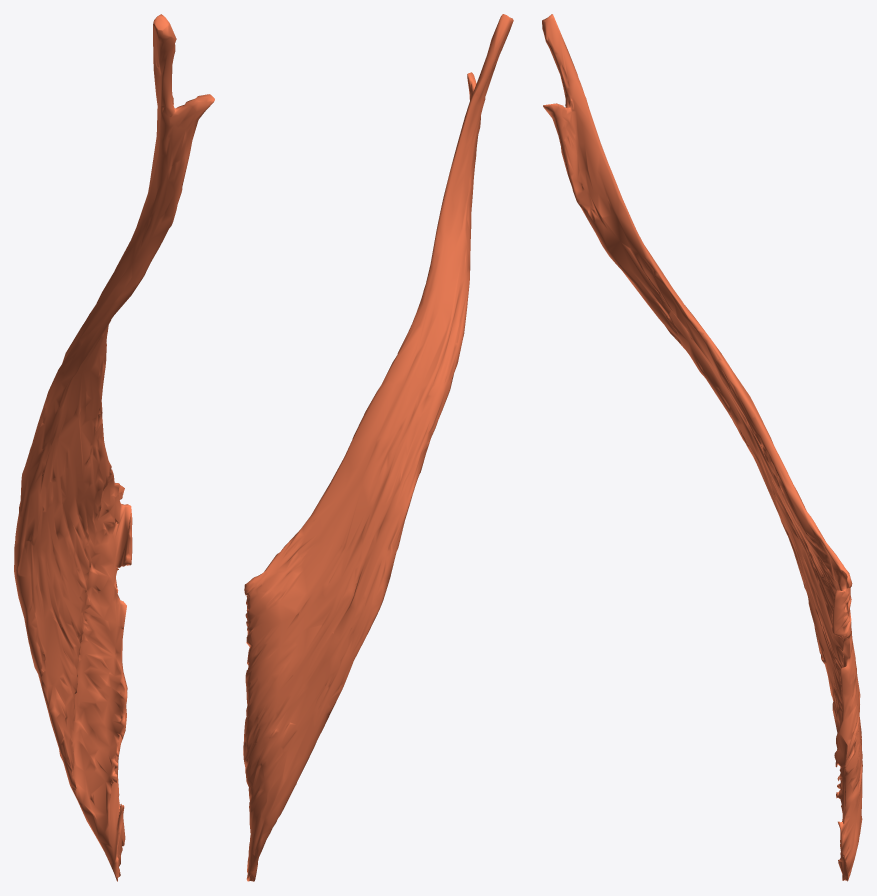
The model's file is Splenius_colli_muscle.r_Generated_Mesh_From_X3D.202.glb.
3 renders of one model, left to right at view 1: azimuth 30°, elevation 25°; view 2: azimuth 150°, elevation 25°; view 3: azimuth 270°, elevation 25°, orthographic. The views are drawn at different scales.
Parts seen in each view (by area): view 1: Splenius_colli_muscle.r_Generated_Mesh_From_X3D.202; view 2: Splenius_colli_muscle.r_Generated_Mesh_From_X3D.202; view 3: Splenius_colli_muscle.r_Generated_Mesh_From_X3D.202.
Part boxes in pixels (x1,y1,x2,y2): Splenius_colli_muscle.r_Generated_Mesh_From_X3D.202: (14, 14, 214, 881); Splenius_colli_muscle.r_Generated_Mesh_From_X3D.202: (243, 14, 513, 881); Splenius_colli_muscle.r_Generated_Mesh_From_X3D.202: (542, 14, 862, 881).
Bounding box in the file's own units: 0.0437 × 0.2577 × 0.0923.
